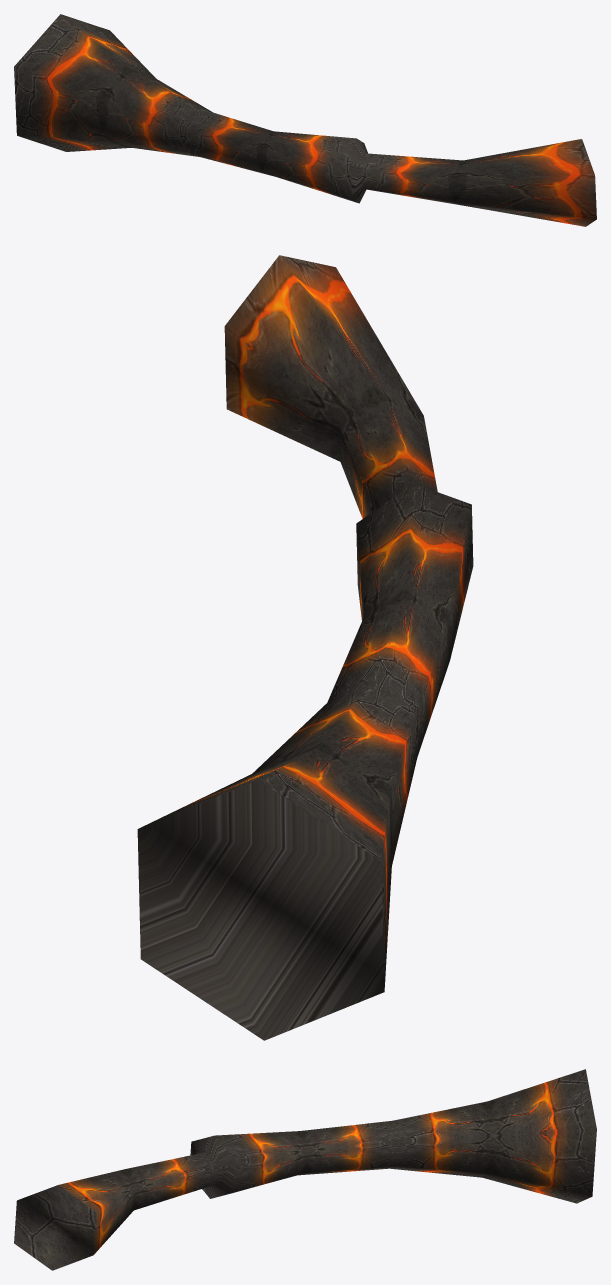
Rendered from rock-pillar_08.obj.
3 views of the same model, one above another, from view 1: azimuth 30°, elevation 25°; view 2: azimuth 150°, elevation 25°; view 3: azimuth 270°, elevation 25° (orthographic). The views are drawn at different scales.
Parts seen in each view (by area): view 1: (null); view 2: (null); view 3: (null).
Part boxes in pixels (<box>): (null): <box>14,14,596,226</box>; (null): <box>137,255,473,1040</box>; (null): <box>14,1069,596,1270</box>.
Bounding box in the file's own units: 6.36 × 2.72 × 10.17.
